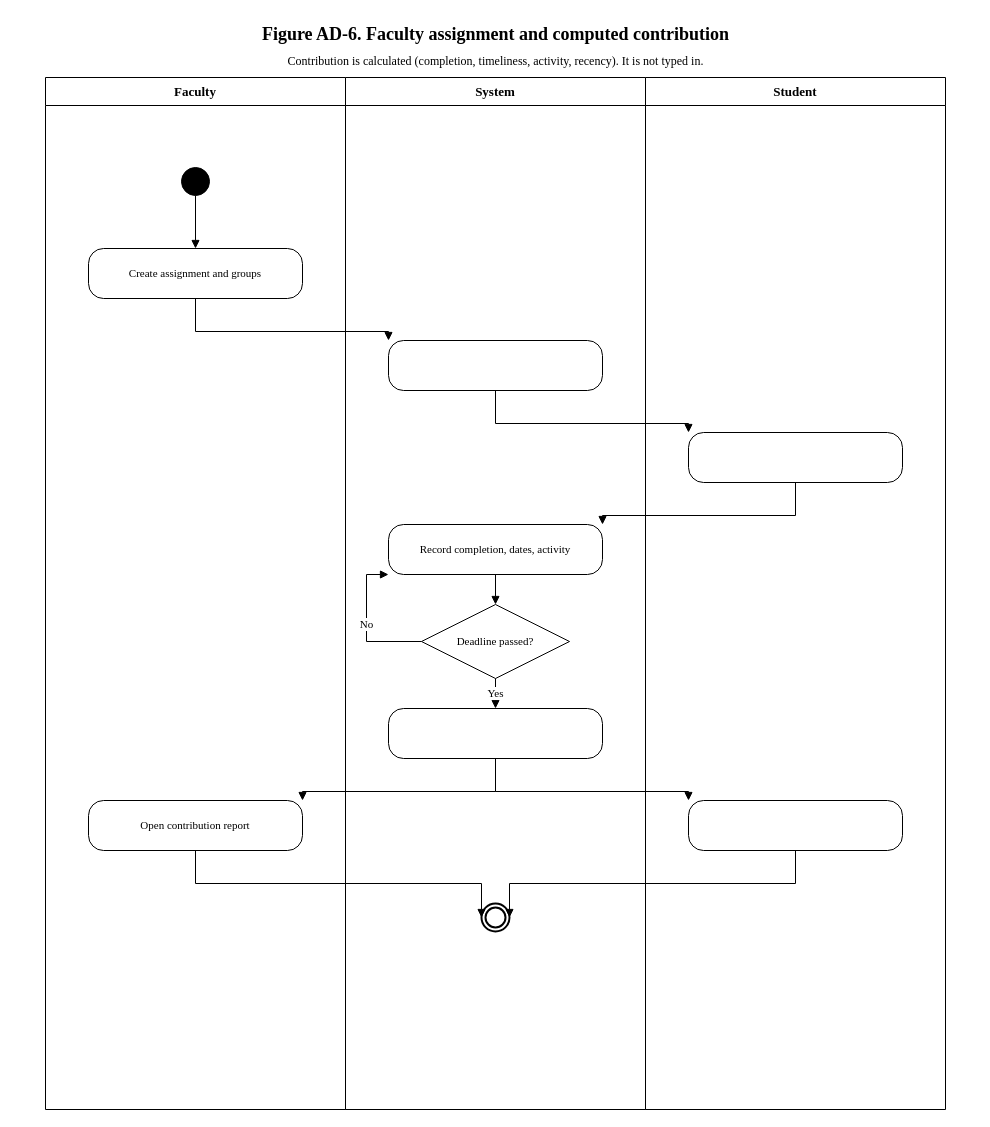
Some shapes in this 990 by 1127 pixel diagram are drawn without their labels. Here are the shapes that lost their labels. From the top down, the centre of each, then its label:
(495,365): Invite or place students in groups
(795,457): Complete group tasks and submit
(495,733): Run contribution formula
(795,825): View own contribution
